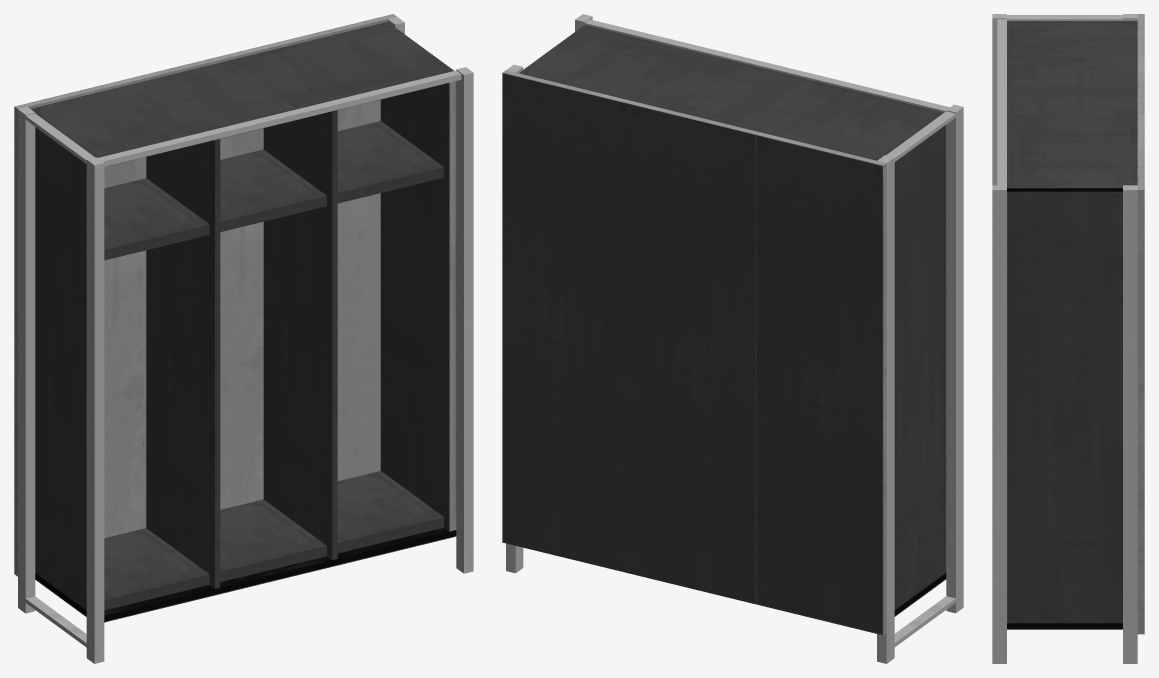
Rendered from SM_Locker2.fbx.
3 views of the same model, side by side, from view 1: azimuth 30°, elevation 25°; view 2: azimuth 150°, elevation 25°; view 3: azimuth 270°, elevation 25° (orthographic). The views are drawn at different scales.
Visible parts, largest first — view 1: SM_Locker2_LOD0; view 2: SM_Locker2_LOD0; view 3: SM_Locker2_LOD0.
Part boxes in pixels (<box>): SM_Locker2_LOD0: <box>14,14,473,663</box>; SM_Locker2_LOD0: <box>502,14,963,663</box>; SM_Locker2_LOD0: <box>992,14,1144,663</box>.
Size of the model in its own units: 149 by 54.47 by 187.
